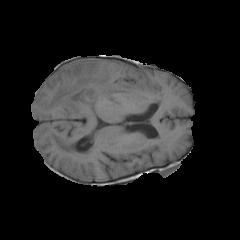glioma: (45, 61, 127, 118)
